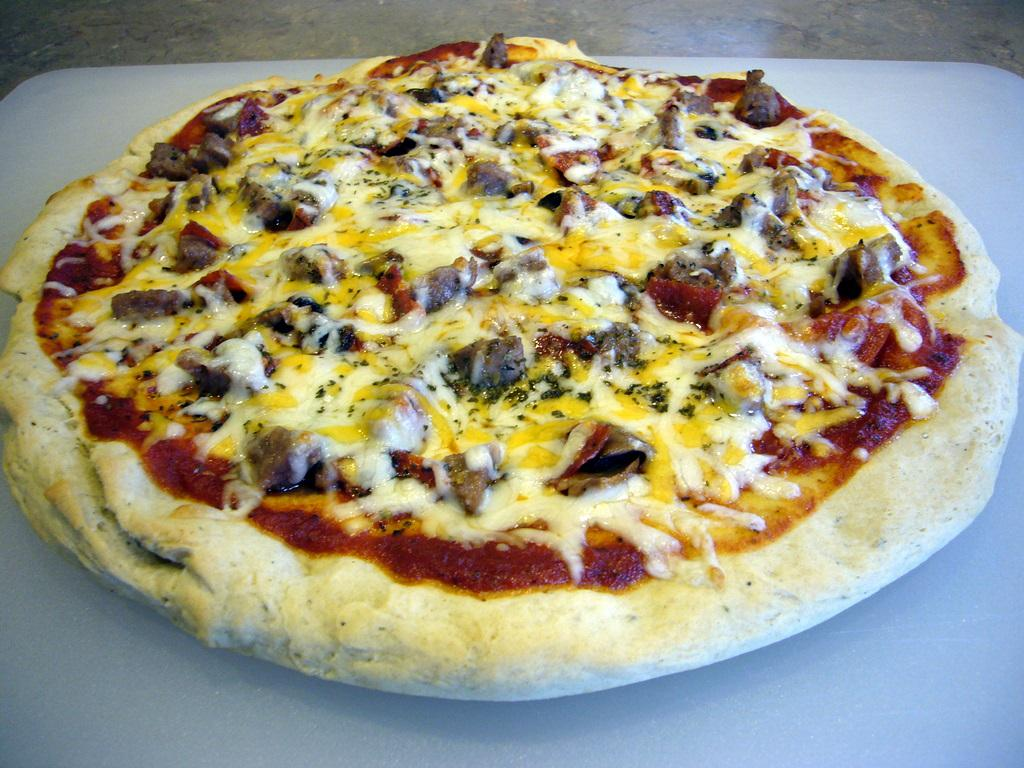Pizza: (0, 25, 1015, 692)
